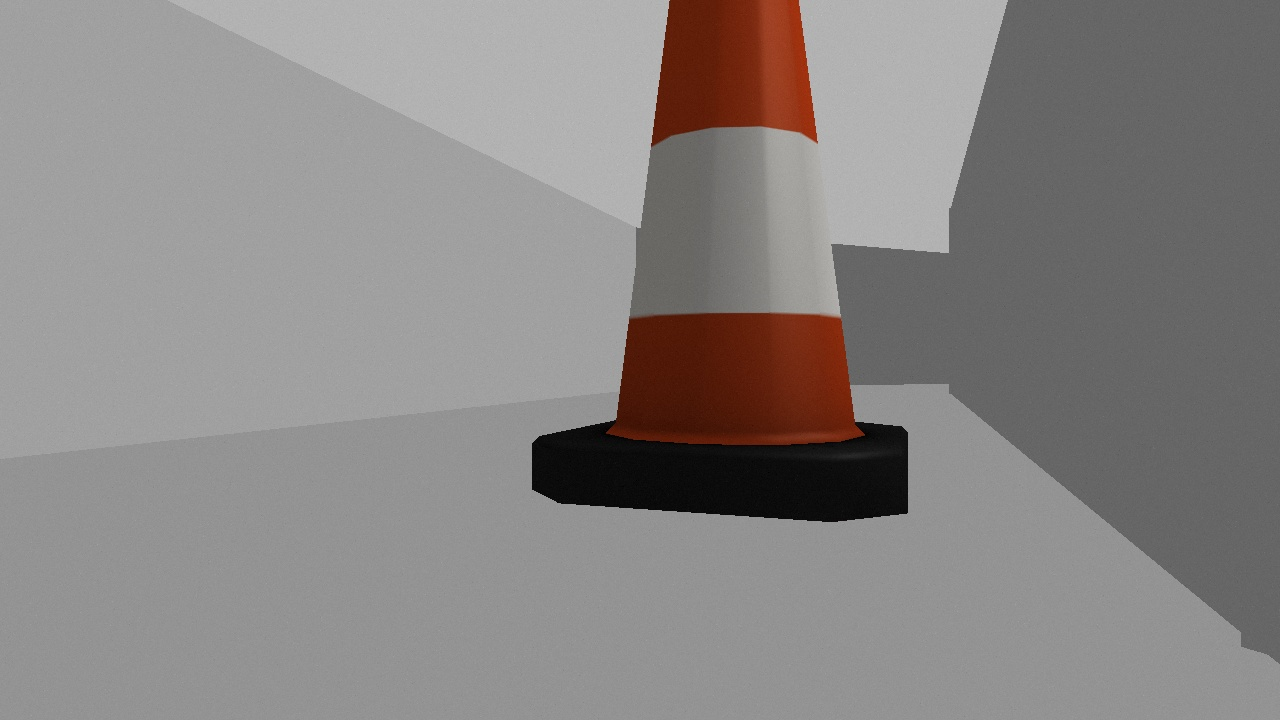barricade: (533, 1, 909, 524)
